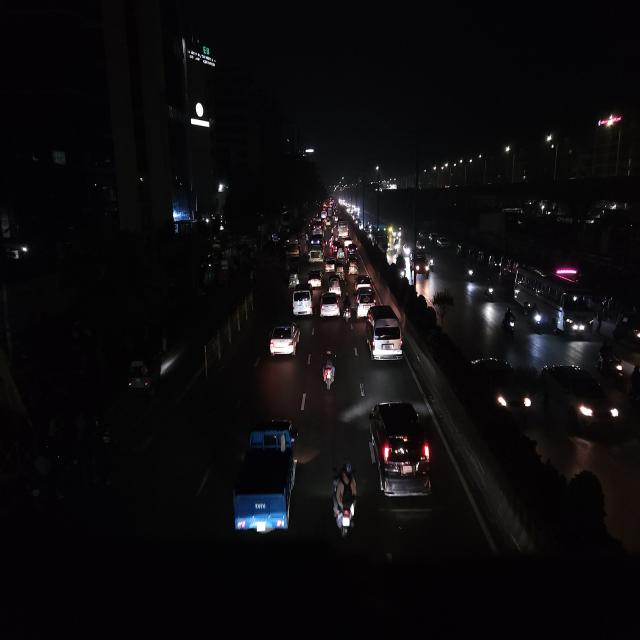bus: (517, 270, 595, 337), (284, 235, 307, 258), (309, 236, 325, 266), (337, 221, 351, 239), (311, 225, 325, 239)
car: (366, 395, 436, 503), (364, 305, 406, 363), (264, 319, 305, 364), (290, 282, 316, 319), (318, 292, 342, 321), (356, 291, 378, 319), (409, 250, 429, 278), (308, 266, 322, 287), (324, 257, 334, 275)
cng: (327, 277, 342, 294), (349, 256, 360, 277), (287, 271, 300, 287), (336, 246, 346, 261), (336, 264, 345, 280)
motorcycle: (328, 458, 358, 536), (316, 347, 337, 392), (501, 310, 521, 340), (523, 304, 543, 333), (483, 279, 498, 304), (342, 293, 352, 327), (462, 262, 476, 282), (429, 256, 436, 273), (392, 242, 398, 257)
pickup_van: (226, 416, 294, 536)
truck: (374, 224, 390, 252)
